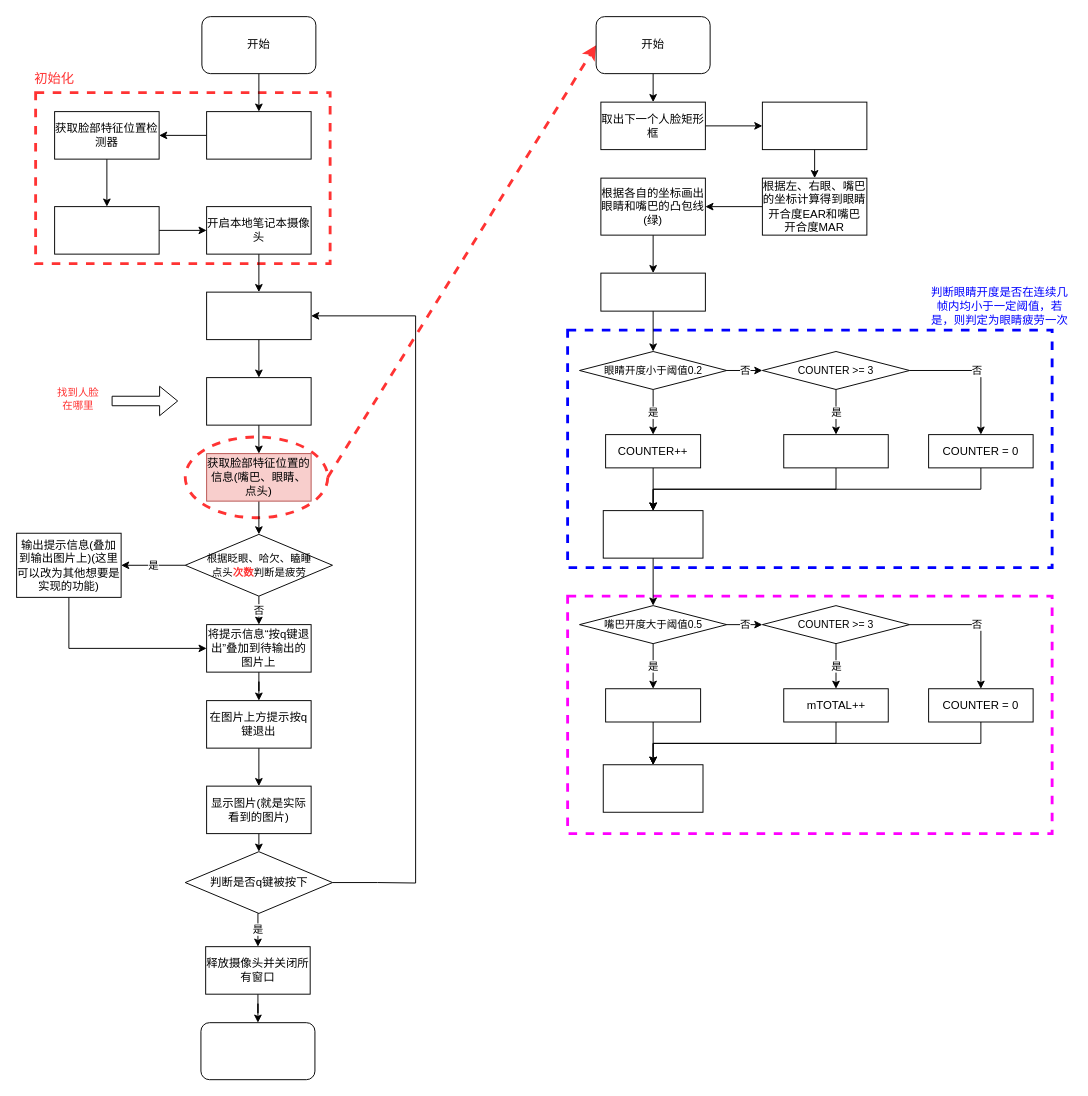
Some shapes in this 1088 by 1096 pixel diagram are drawn without their labels. Here are the shapes that lost their labels. From the top down, the centre of each, then its label:
[258,135]: 获取脸部检测器
[814,125]: 标记出该矩形框中的68个特征点，并转换为矩阵形式
[106,230]: 获取左眼、右眼、嘴巴的索引
[652,291]: 画出人脸所在的矩形框(红)
[258,315]: 从摄像头读图片、缩放、灰度处理
[258,401]: 检测图片中的脸部位置
[835,451]: TOTAL++
[652,534]: 显示人脸数、COUNTER、EAR、TOTAL
[653,705]: mCOUNTER++ 显示yawning
[652,788]: 显示mCOUNTER、MAR、mTOTAL
[257,1051]: 结束
